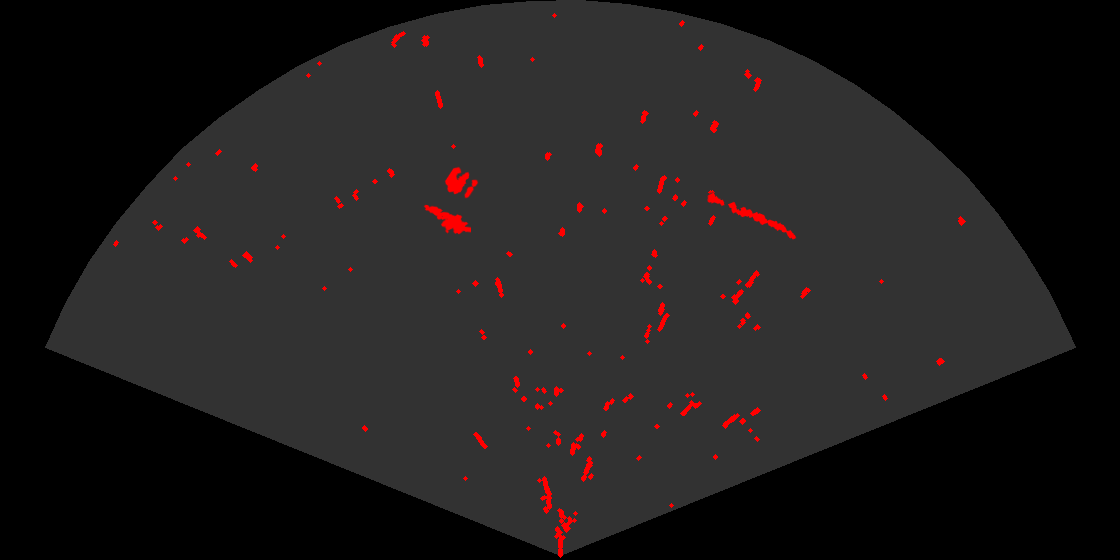ball: (443, 165, 480, 200)
chain: (705, 191, 798, 241)
frogman: (422, 203, 471, 236)
